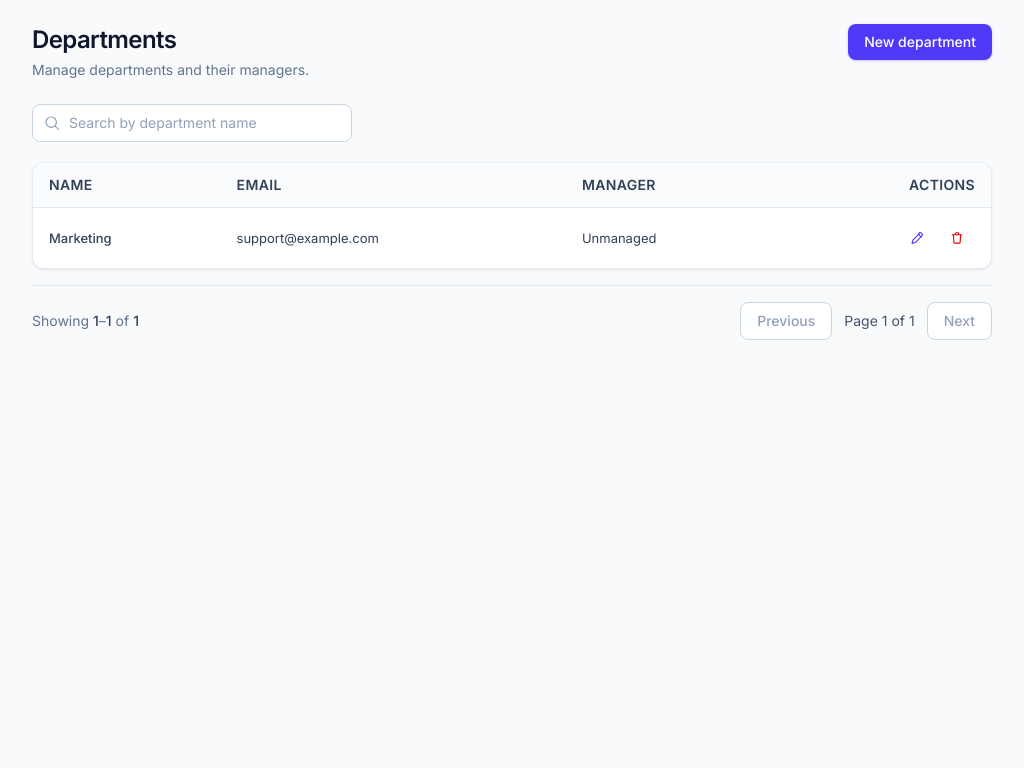
it: DepartmentsListPage › deletes a department after confirming and removes it from the list
Click the button named "Delete Marketing" at (957, 238), box [939,220,975,256]
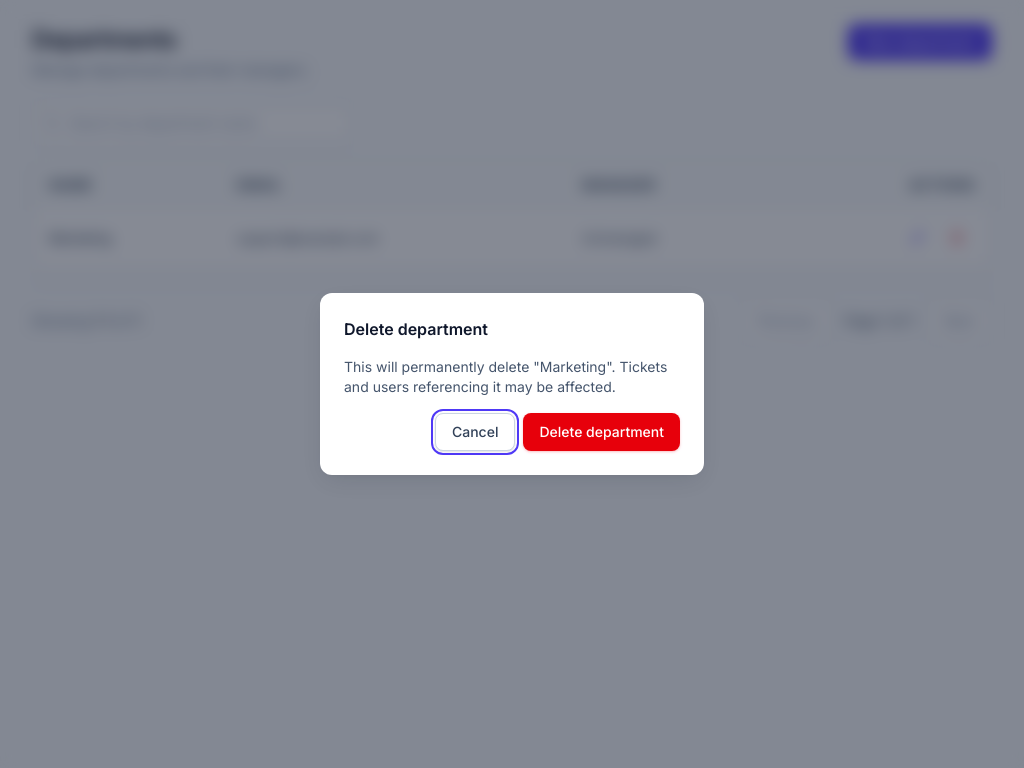
Now the dialog shows "Marketing", box [344,358,667,395]
Click the button "Delete department" at (602, 432), box [524,413,680,451]
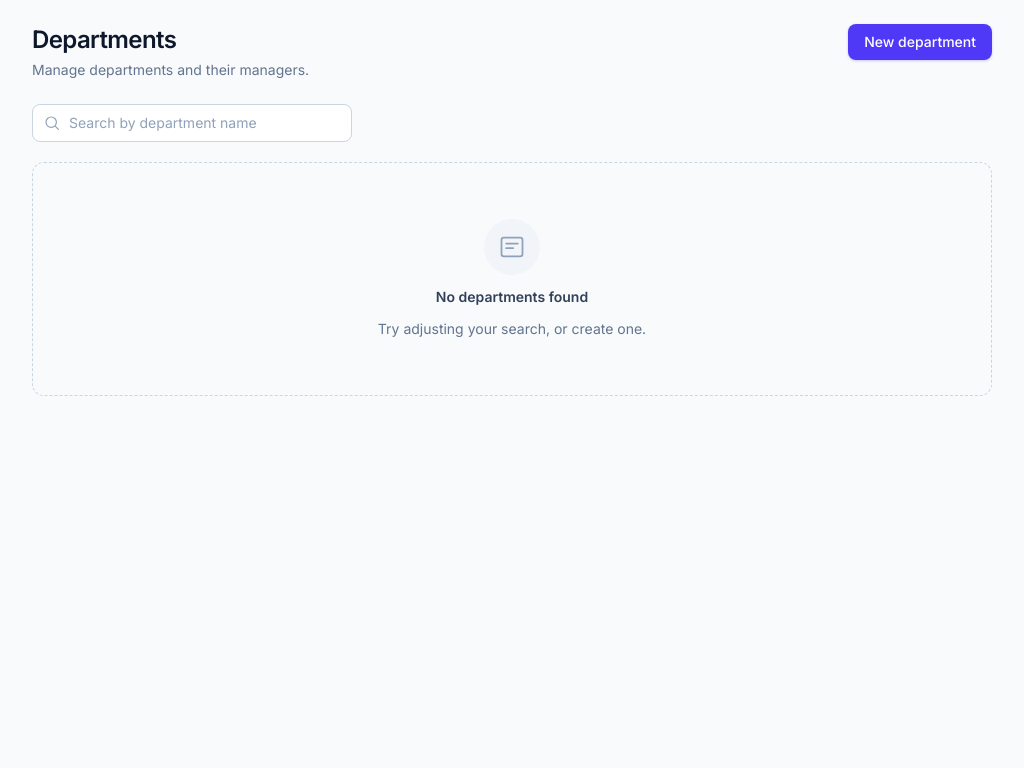
Now no links "Marketing" are shown
